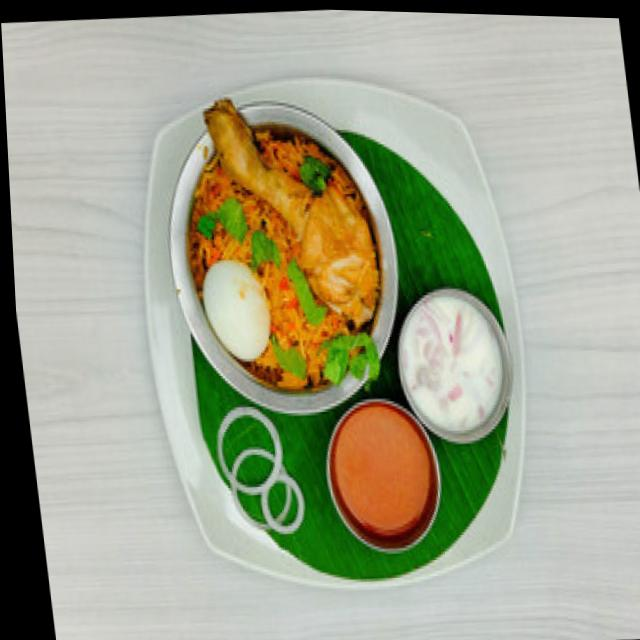BIRIYANI: (184, 107, 378, 393)
CURD: (400, 289, 504, 435)
CURRY: (330, 403, 437, 547)
